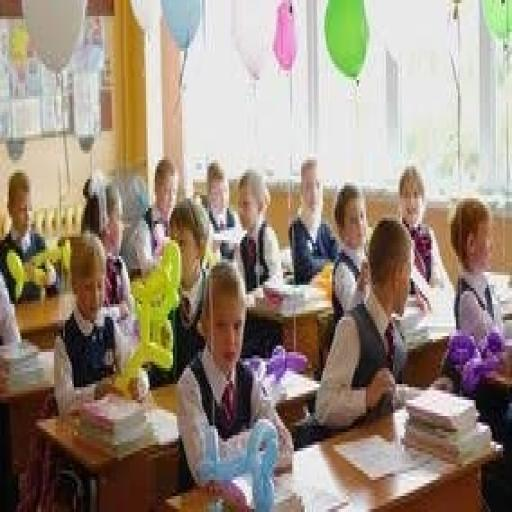sitting: (2, 147, 508, 499)
